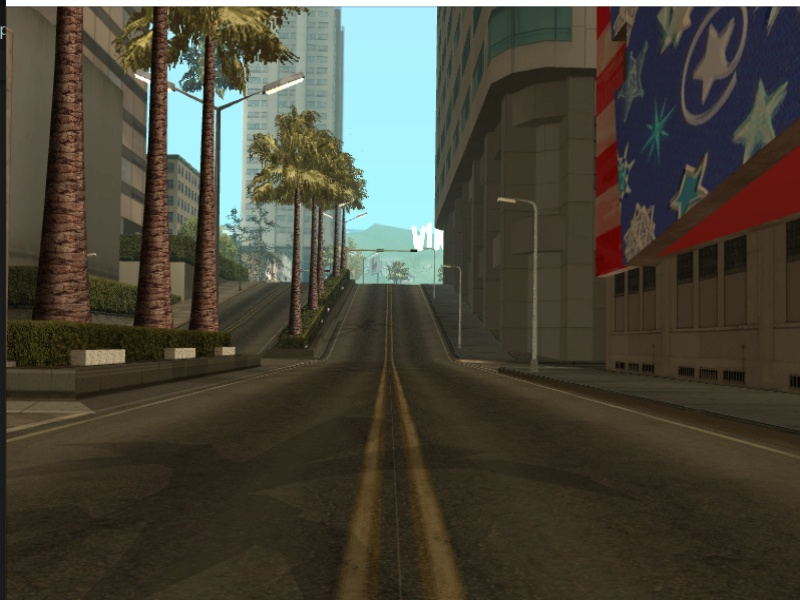pole: (526, 200, 545, 371), (455, 265, 467, 356), (428, 249, 440, 298)
tree: (33, 8, 93, 328), (131, 6, 173, 331), (197, 41, 229, 332), (286, 189, 304, 339), (310, 193, 321, 313), (329, 200, 342, 280)
